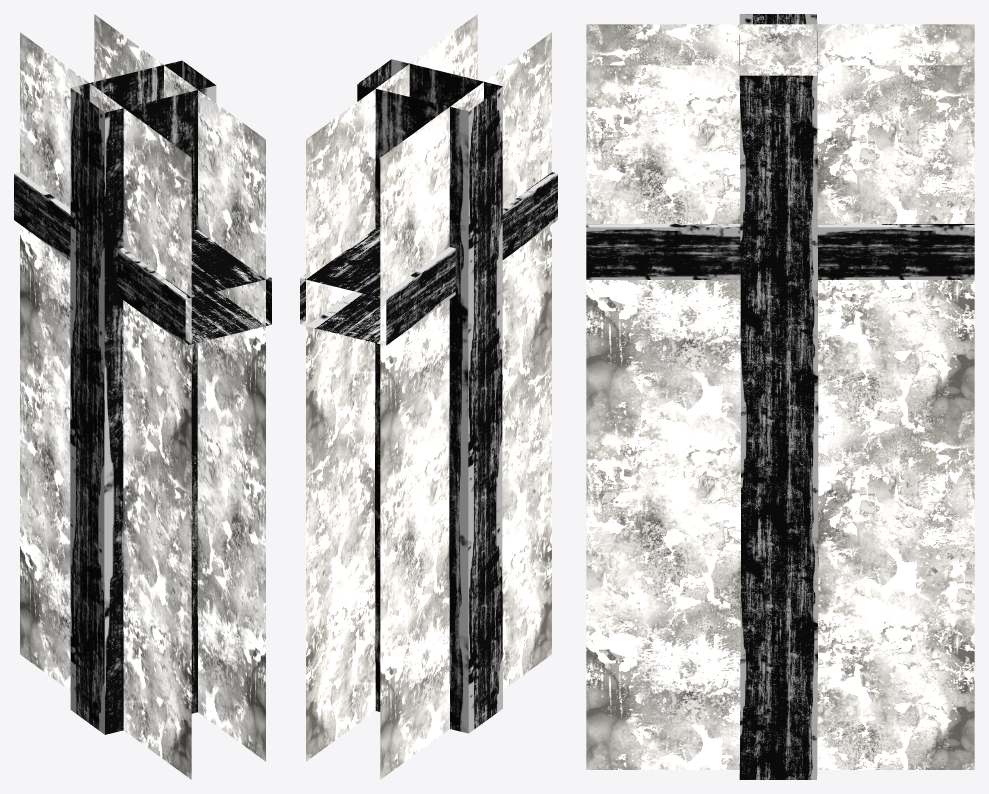
The model's file is SM_wall_A_2x4_02_02.fbx.
3 views of the same model, side by side, from view 1: azimuth 30°, elevation 25°; view 2: azimuth 150°, elevation 25°; view 3: azimuth 270°, elevation 25° (orthographic). The views are drawn at different scales.
Parts seen in each view (by area): view 1: SM_wall_A_2x4_02_02_LOD0; view 2: SM_wall_A_2x4_02_02_LOD0; view 3: SM_wall_A_2x4_02_02_LOD0.
Part boxes in pixels (x1,y1,x2,y2): SM_wall_A_2x4_02_02_LOD0: [14, 14, 271, 779]; SM_wall_A_2x4_02_02_LOD0: [300, 14, 557, 779]; SM_wall_A_2x4_02_02_LOD0: [586, 14, 974, 779].
Size of the model in its own units: 75 by 200 by 400.
3 materials, 3 textured.
